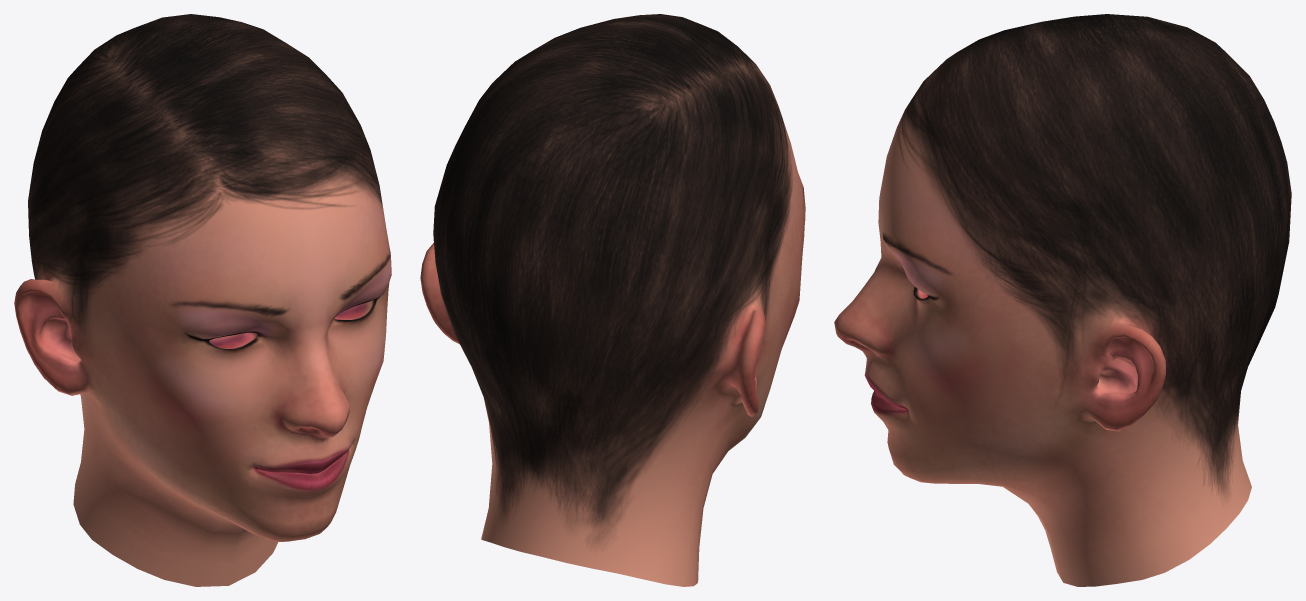
File: base_head_female.glb
3 renders of one model, left to right at view 1: azimuth 30°, elevation 25°; view 2: azimuth 150°, elevation 25°; view 3: azimuth 270°, elevation 25°, orthographic. The views are drawn at different scales.
Visible parts, largest first — view 1: BaseHead_Female_Low_03 - Default_0; view 2: BaseHead_Female_Low_03 - Default_0; view 3: BaseHead_Female_Low_03 - Default_0.
Part boxes in pixels (<box>): BaseHead_Female_Low_03 - Default_0: <box>14,14,391,586</box>; BaseHead_Female_Low_03 - Default_0: <box>420,14,805,586</box>; BaseHead_Female_Low_03 - Default_0: <box>834,14,1291,586</box>.
Size of the model in its own units: 1.95 by 3.01 by 2.31.
1 material, 1 textured.
